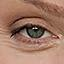eye: (26, 27, 44, 38)
